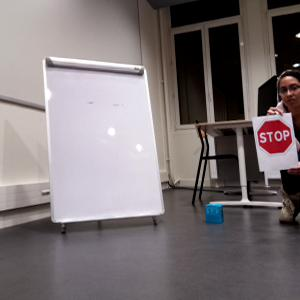big: (42, 56, 166, 234)
small: (205, 202, 225, 225)
